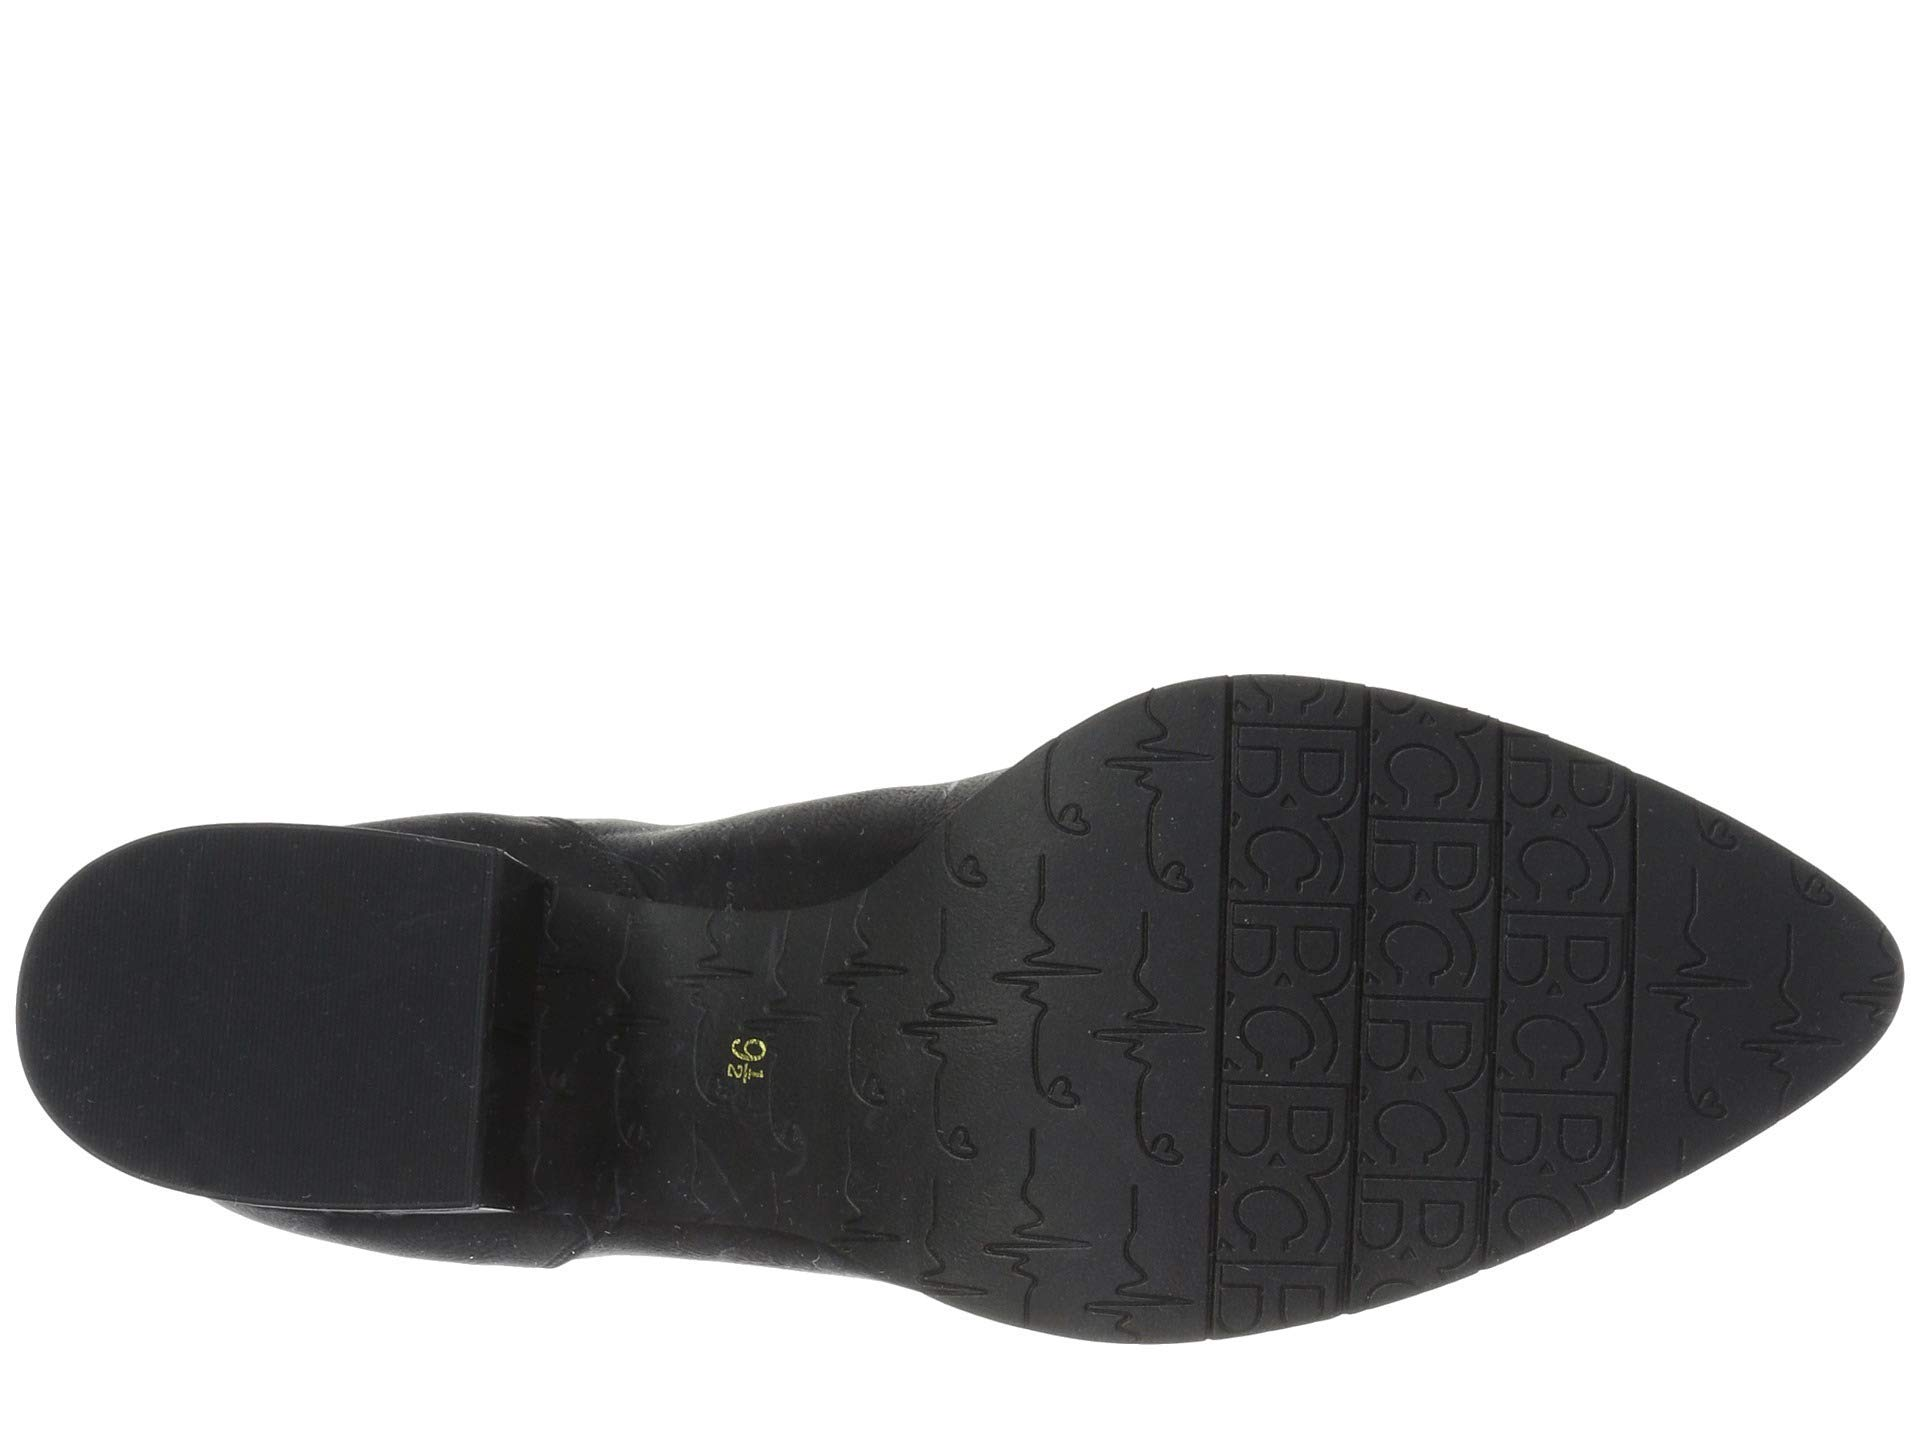chevron: (937, 870, 1206, 1128)
line: (1223, 746, 1604, 1171)
text: (1223, 746, 1604, 1171), (692, 967, 857, 1156)
